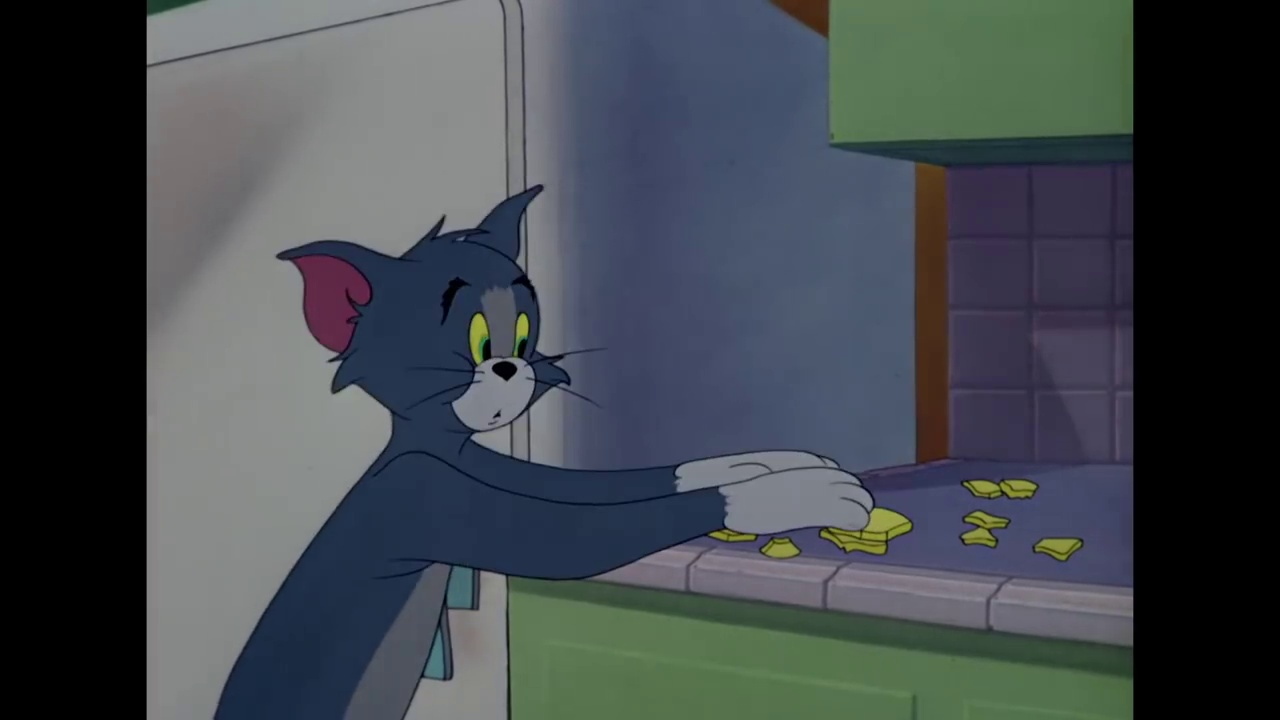tom: (274, 179, 576, 452)
